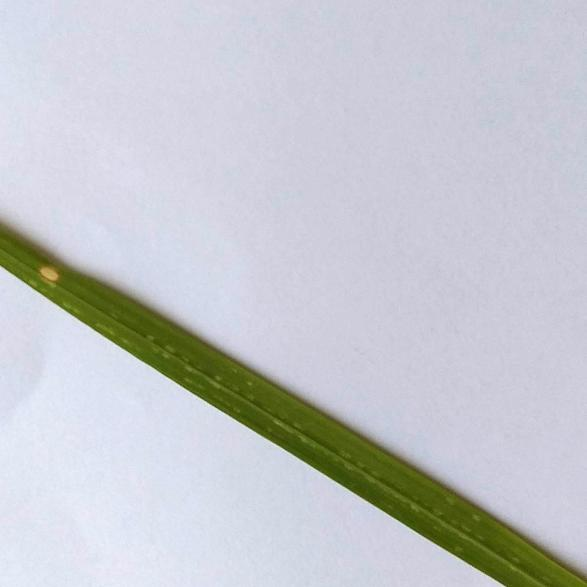Leaf_smut: (31, 256, 59, 291)
